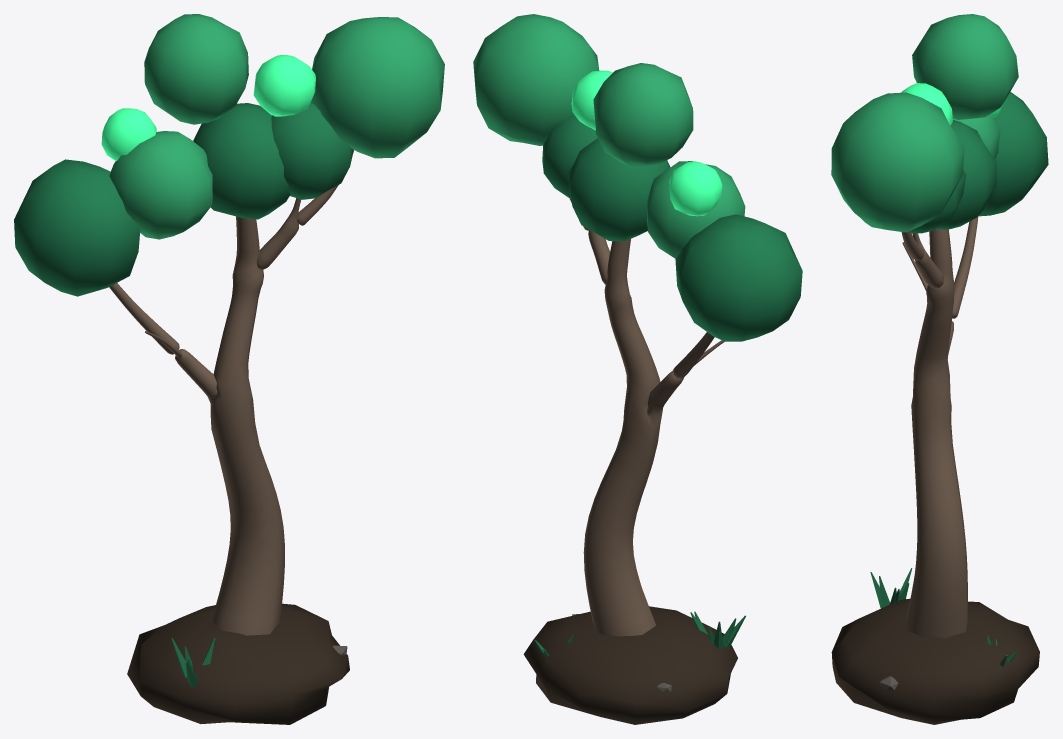
File: garden-sapling.glb
The picture shows the model from 3 angles, left to right: view 1: azimuth 30°, elevation 25°; view 2: azimuth 150°, elevation 25°; view 3: azimuth 270°, elevation 25°; orthographic projection. The views are drawn at different scales.
Visible parts, largest first — view 1: garden-sapling; view 2: garden-sapling; view 3: garden-sapling.
Boxes of the visible parts, x1,y1,x2,y2 form: garden-sapling: [14, 14, 444, 724]; garden-sapling: [473, 14, 802, 724]; garden-sapling: [831, 14, 1048, 724].
Bounding box in the file's own units: 0.6635 × 1.18 × 0.3467.
